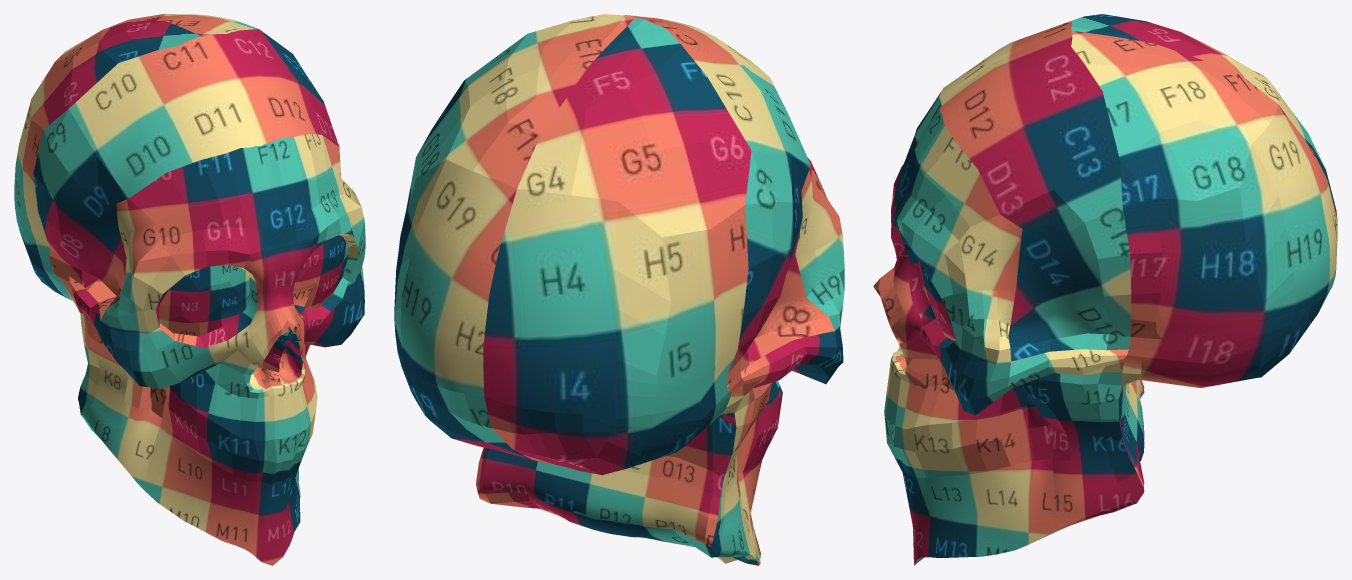
The model's file is test_rose.FBX.
3 renders of one model, left to right at view 1: azimuth 30°, elevation 25°; view 2: azimuth 150°, elevation 25°; view 3: azimuth 270°, elevation 25°, orthographic. The views are drawn at different scales.
Parts seen in each view (by area): view 1: Entity_Rose_Low; view 2: Entity_Rose_Low; view 3: Entity_Rose_Low.
Part boxes in pixels (box(x1,y1,x2,y2)): Entity_Rose_Low: box(14, 14, 365, 565); Entity_Rose_Low: box(394, 14, 844, 565); Entity_Rose_Low: box(873, 14, 1337, 565).
Size of the model in its own units: 0.783 by 1.33 by 1.04.
